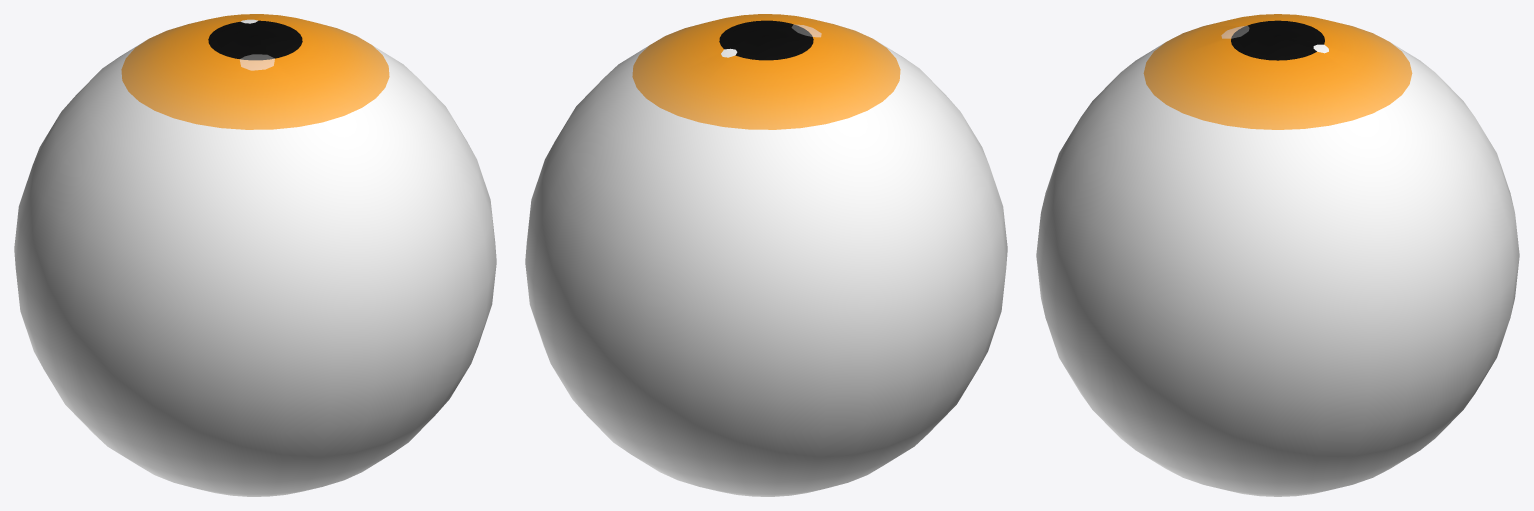
The model's file is Oeil.fbx.
3 renders of one model, left to right at view 1: azimuth 30°, elevation 25°; view 2: azimuth 150°, elevation 25°; view 3: azimuth 270°, elevation 25°, orthographic.
Visible parts, largest first — view 1: Sphere; view 2: Sphere; view 3: Sphere.
Boxes of the visible parts, x1,y1,x2,y2 form: Sphere: [14, 14, 496, 496]; Sphere: [525, 14, 1007, 496]; Sphere: [1036, 14, 1519, 496].
Bounding box in the file's own units: 80.97 × 80.97 × 80.97.
